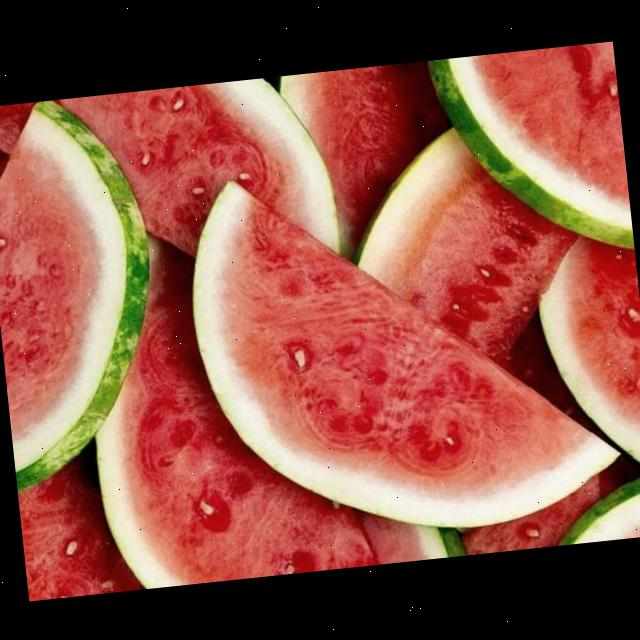watermelon: (178, 140, 628, 554), (72, 208, 379, 592), (0, 90, 176, 507), (346, 116, 587, 376), (54, 70, 342, 280), (429, 41, 635, 275), (274, 58, 470, 273), (529, 229, 640, 482), (15, 462, 142, 596), (552, 457, 640, 544), (362, 496, 466, 564), (0, 100, 41, 157), (0, 104, 15, 235)
